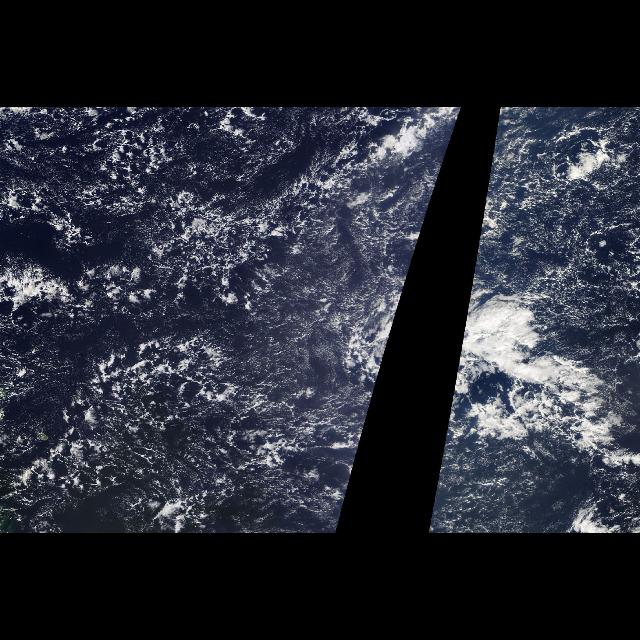Gravel: (6, 112, 370, 532), (494, 110, 640, 342)
Sugar: (206, 203, 340, 452), (521, 183, 635, 363)
